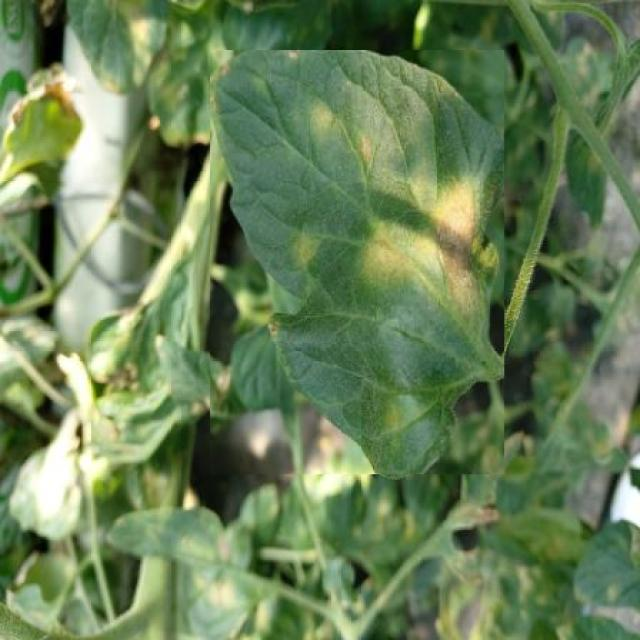Leaf Mold: (210, 50, 504, 474)
